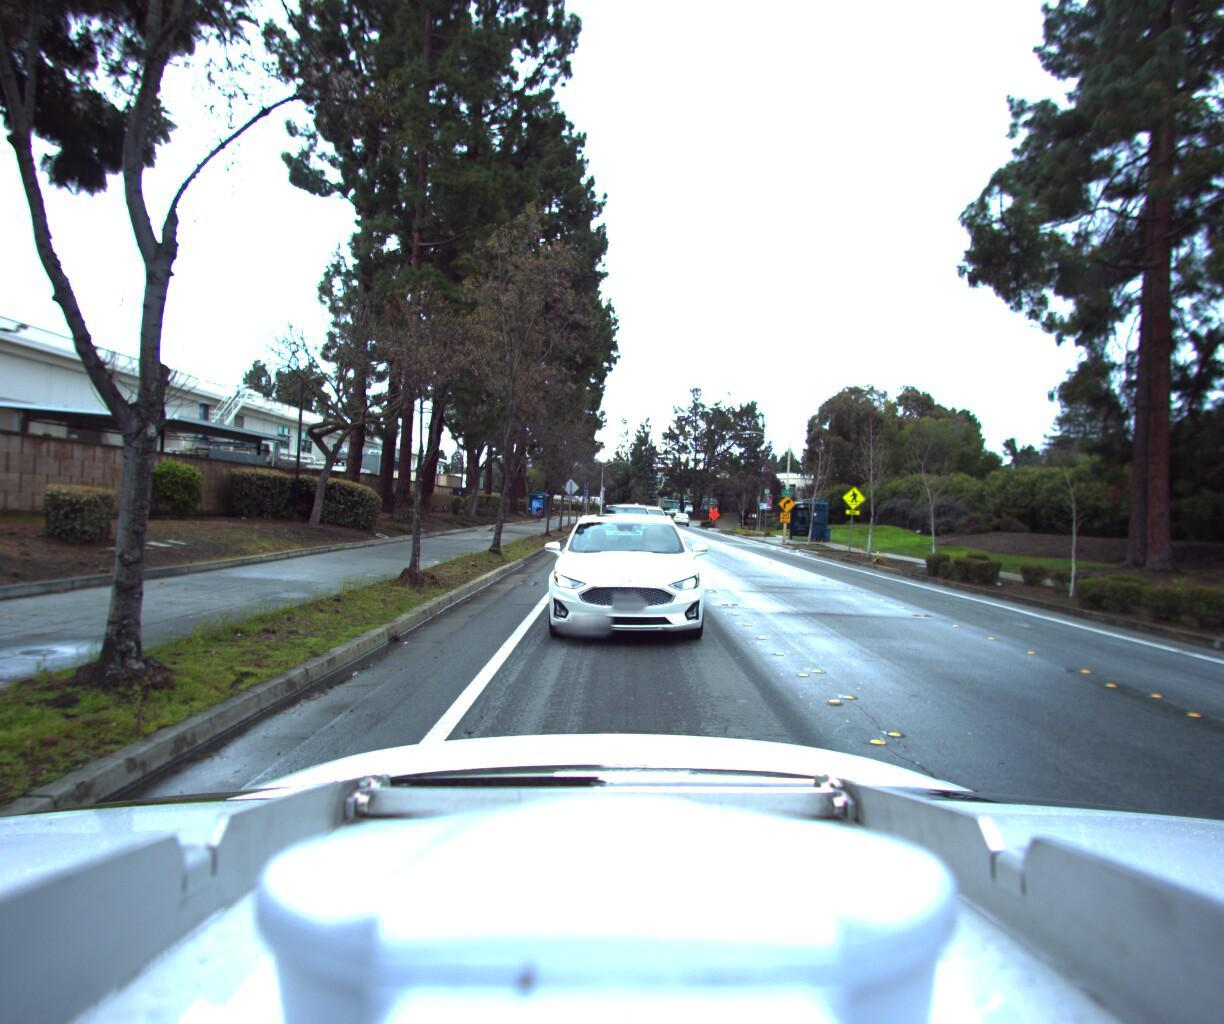car: (536, 501, 710, 653), (595, 499, 658, 557), (631, 503, 679, 545)
